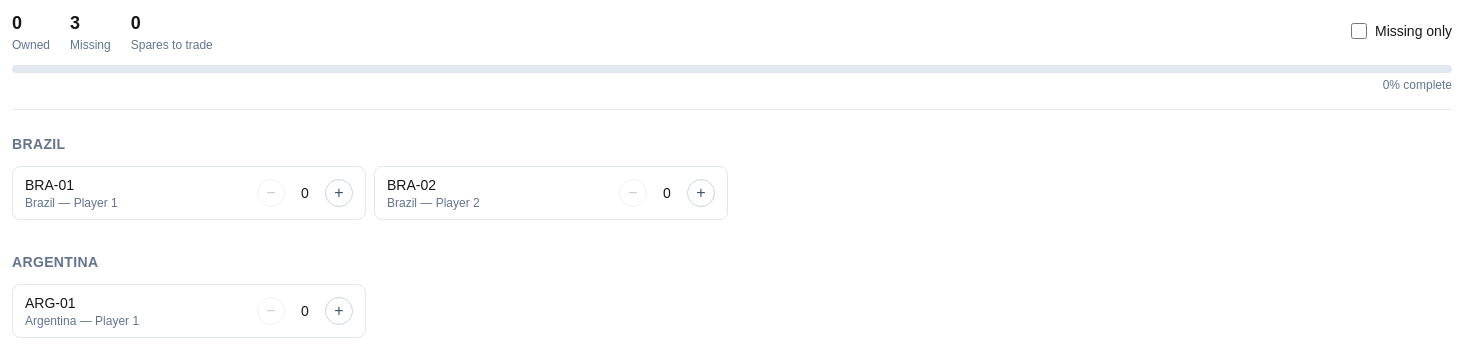
Test: CollectionTracker › shows a spare badge once a sticker count reaches 2
The width and height of the screenshot is (1464, 355).
Click the button "+" in the row of "BRA-01" at (339, 193), box [325,179,353,207]
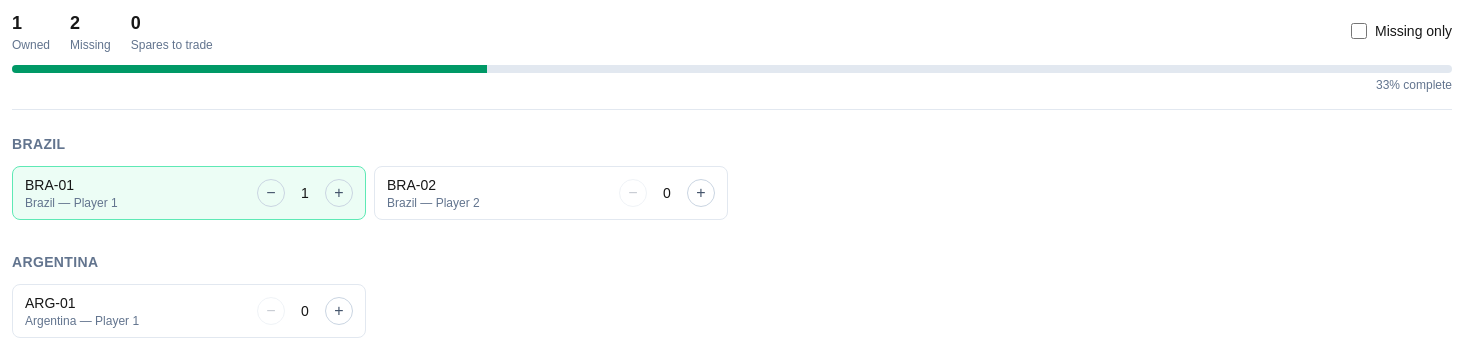
Click the button "+" in the row of "BRA-01" at (339, 193), box [325,179,353,207]
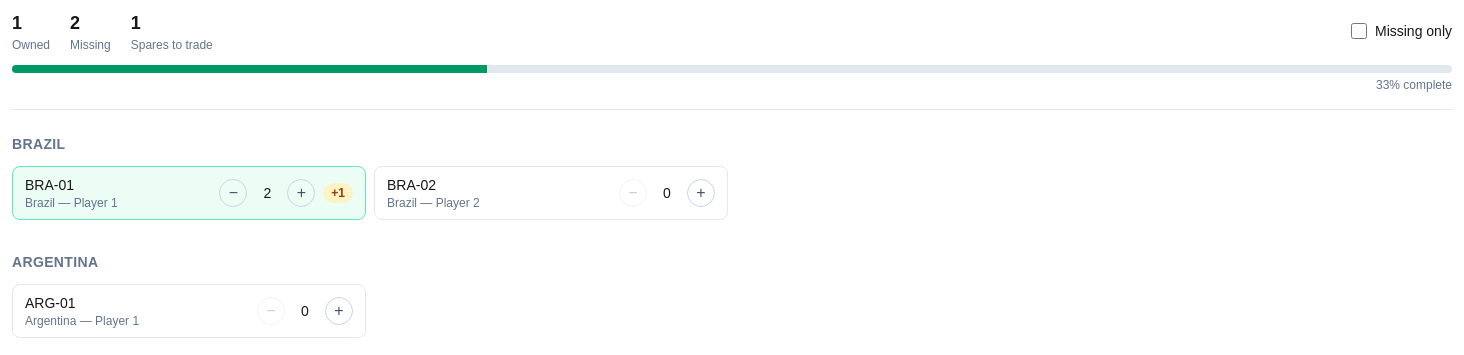
Now the text "+1" is shown, box [323,183,353,203]
